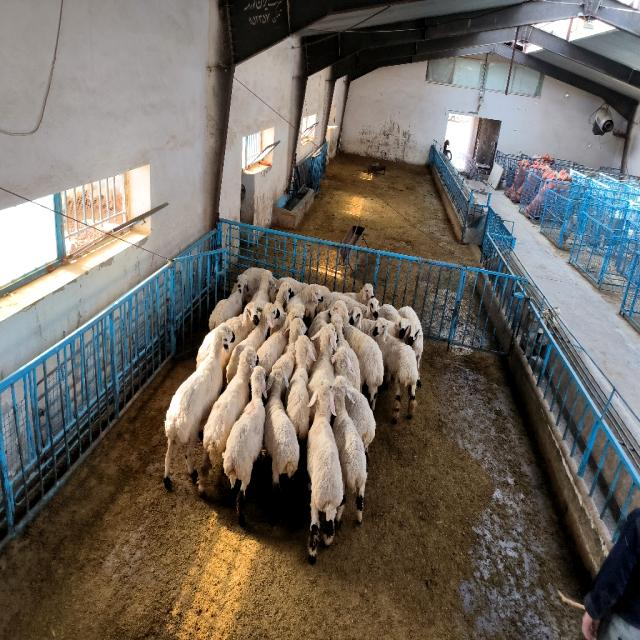sheep: (164, 325, 234, 486), (199, 347, 256, 494), (222, 367, 266, 524), (308, 380, 344, 563), (329, 300, 384, 409), (332, 377, 368, 522), (372, 318, 419, 422), (331, 347, 375, 452), (264, 368, 299, 491), (226, 303, 278, 382), (258, 303, 305, 373), (286, 335, 315, 446), (221, 302, 259, 374), (345, 380, 376, 456), (308, 323, 338, 398), (272, 317, 306, 381), (331, 315, 359, 388), (209, 277, 246, 329), (319, 292, 379, 319), (399, 307, 424, 368), (379, 305, 410, 339), (251, 270, 275, 311), (286, 285, 322, 311), (348, 302, 375, 335), (242, 267, 263, 304), (196, 330, 214, 366), (344, 283, 374, 304), (276, 277, 308, 295), (274, 282, 291, 313), (388, 322, 400, 338)
